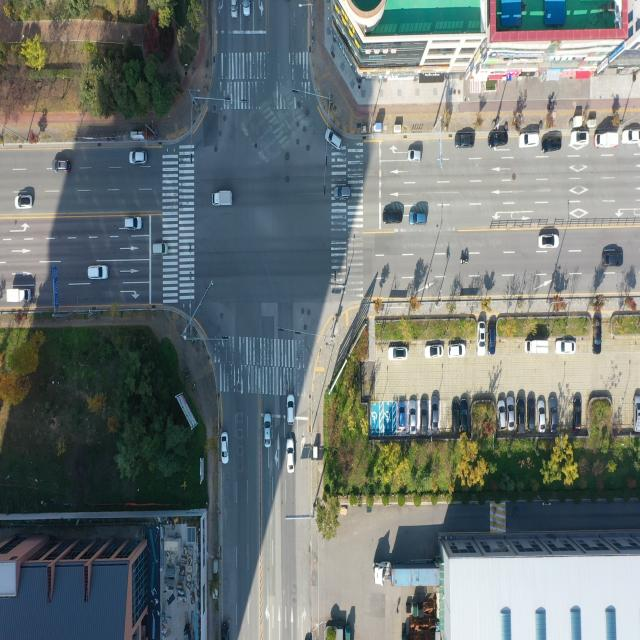car: (325, 130, 343, 151), (550, 396, 559, 434), (451, 399, 460, 435), (90, 266, 110, 282), (556, 340, 576, 356), (602, 252, 622, 268), (13, 195, 34, 210), (387, 346, 408, 361), (527, 398, 536, 433), (130, 149, 148, 166), (488, 324, 497, 358), (430, 398, 439, 432), (573, 398, 582, 432), (459, 398, 468, 432), (594, 318, 602, 356), (383, 210, 403, 225), (538, 235, 558, 250), (126, 215, 144, 231), (425, 345, 444, 360), (489, 134, 508, 149), (520, 134, 540, 148), (541, 138, 561, 152), (479, 323, 487, 358), (518, 396, 526, 431), (286, 439, 294, 473), (266, 414, 274, 448), (622, 130, 640, 145), (154, 241, 170, 257), (336, 185, 353, 200), (54, 160, 72, 174), (410, 212, 428, 226), (456, 135, 474, 149), (570, 132, 588, 146), (537, 399, 545, 430), (398, 400, 407, 427), (497, 398, 505, 428), (449, 344, 466, 358), (421, 396, 428, 430), (287, 397, 295, 426), (634, 396, 640, 434), (220, 433, 227, 465), (411, 405, 418, 436), (409, 149, 424, 162), (506, 396, 512, 426), (220, 621, 228, 640), (230, 0, 238, 18), (242, 0, 250, 18)
large_truck: (372, 562, 442, 588)
small_truck: (212, 189, 234, 209), (525, 339, 550, 356), (5, 287, 30, 303), (594, 133, 618, 149)
